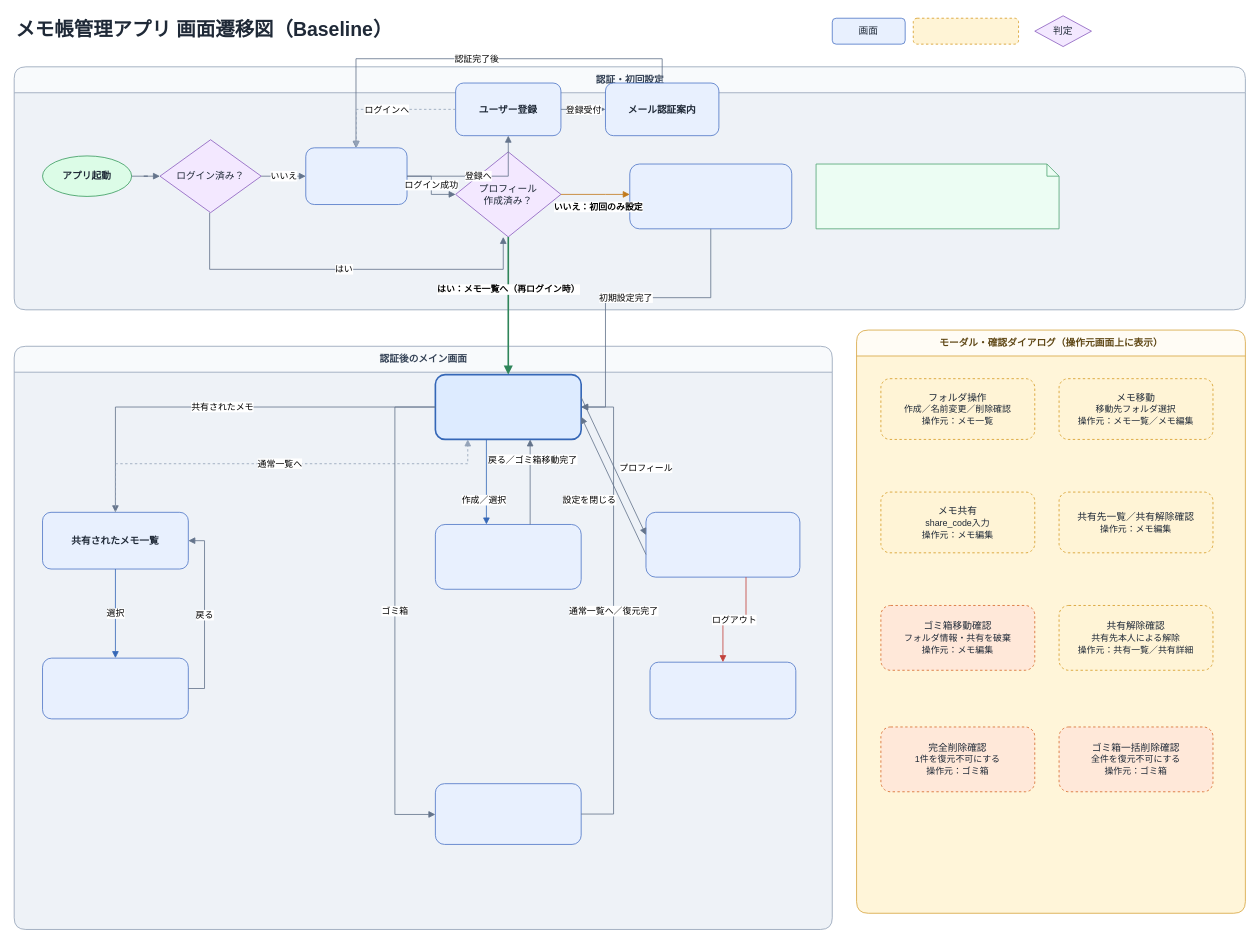
This 1260x944 diagram has some shape labels left out. The shapes that lost their labels are listed below. From the top down, each one's box as (x1, y1, x2, y2) in pixels, then its label:
(912, 17, 1019, 44): モーダル／確認
(305, 147, 407, 205): ログイン
(629, 163, 792, 229): プロフィール初期設定 ユーザー名／共有コード・ デフォルトフォルダ生成
(815, 163, 1059, 229): プロフィール作成済みの場合、ログアウト後に再ログインしても初期設定は表示しない。
(434, 373, 582, 440): メモ一覧 所有フォルダ／通常メモ
(435, 524, 581, 589): メモ編集 作成／閲覧／編集
(645, 512, 800, 577): プロフィール設定 ユーザー名／共有コード／ログアウト
(42, 657, 188, 719): 共有メモ詳細 閲覧専用
(649, 661, 796, 719): ログイン ログアウト後に再表示
(435, 783, 581, 844): ゴミ箱 復元／完全削除
